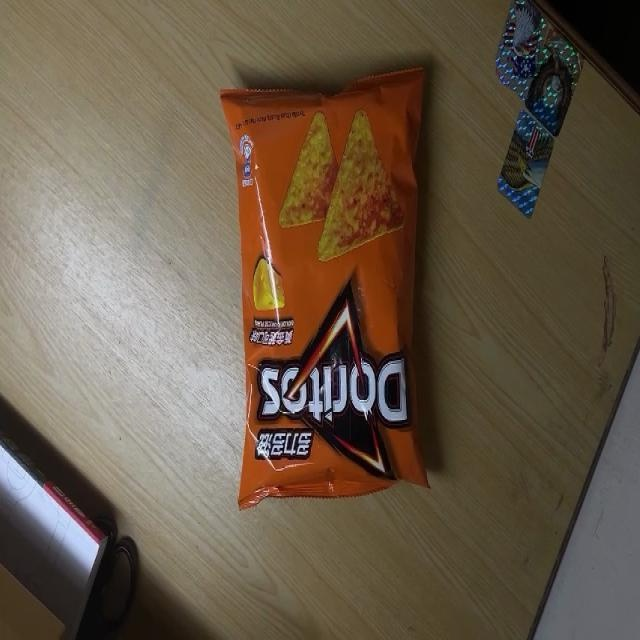Doritos: (219, 66, 434, 510)
